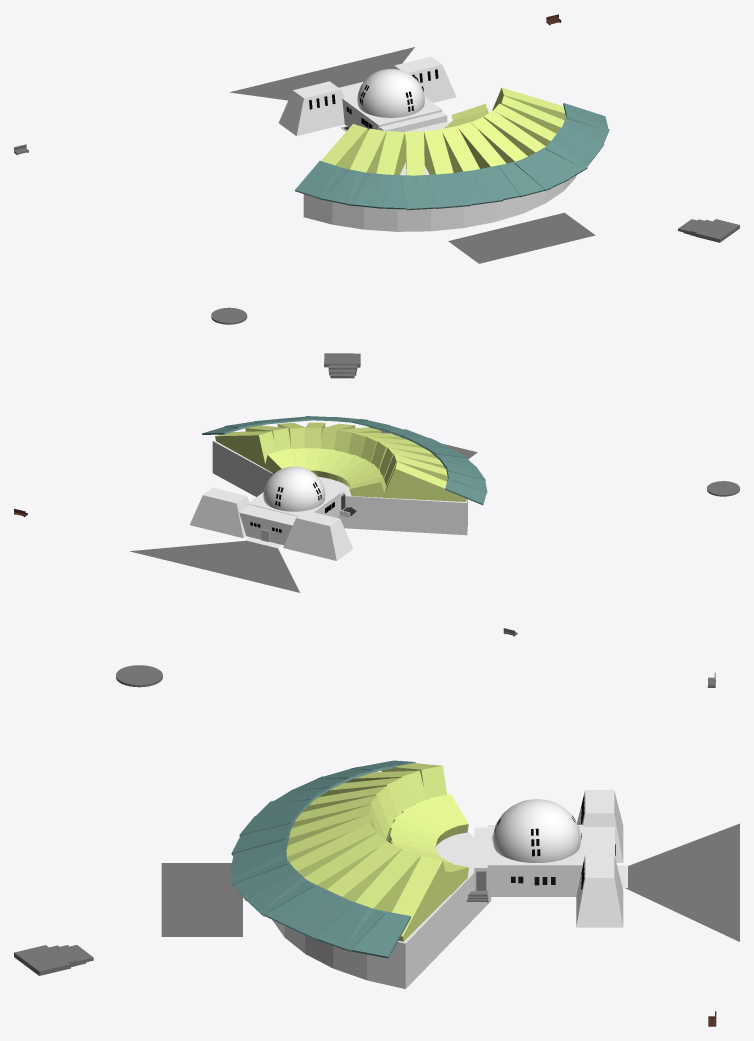
The model's file is asmundarsafn_cpy_to_test_19.obj.
The picture shows the model from 3 angles, top to bottom: view 1: azimuth 30°, elevation 25°; view 2: azimuth 150°, elevation 25°; view 3: azimuth 270°, elevation 25°; orthographic projection. The views are drawn at different scales.
Visible parts, largest first — view 1: Cube.047, Cube.033, syningarsalur, Plane.035, pavement, Sphere, h_hlid, v_hlid, innanhus, Cube, Cube.019, Cylinder; view 2: Cube.033, syningarsalur, pavement, Cube.047, h_hlid, Sphere, v_hlid, adaldyr, Cube, innanhus; view 3: Cube.033, Cube.047, pavement, syningarsalur, Plane.035, Sphere, innanhus, v_hlid, h_hlid, Cube, adaldyr, Cylinder (+1 smaller).
Boxes of the visible parts, x1,y1,x2,y2 form: Cube.047: (295,103,609,210); Cube.033: (321,87,565,175); syningarsalur: (303,122,576,231); Plane.035: (448,212,595,263); pavement: (229,47,414,100); Sphere: (357,69,424,117); h_hlid: (278,81,344,136); v_hlid: (393,56,456,102); innanhus: (342,94,442,130); Cube: (678,219,739,242); Cube.019: (379,112,447,131); Cylinder: (211,307,247,324); Cube.033: (215,422,466,501); syningarsalur: (212,440,467,535); pavement: (130,540,299,592); Cube.047: (202,416,487,505); h_hlid: (283,510,353,560); Sphere: (263,466,325,511); v_hlid: (190,487,250,538); adaldyr: (239,505,297,545); Cube: (324,353,360,378); innanhus: (250,489,340,517); Cube.033: (286,763,468,941); Cube.047: (230,760,415,958); pavement: (625,823,739,941); syningarsalur: (272,831,491,988); Plane.035: (161,863,242,936); Sphere: (493,799,580,862); innanhus: (487,825,584,896); v_hlid: (576,854,623,927); h_hlid: (577,790,623,862); Cube: (14,945,93,975); adaldyr: (584,827,614,856); Cylinder: (116,665,162,687).
Bounding box in the file's own units: 72.47 × 9.13 × 61.73.
